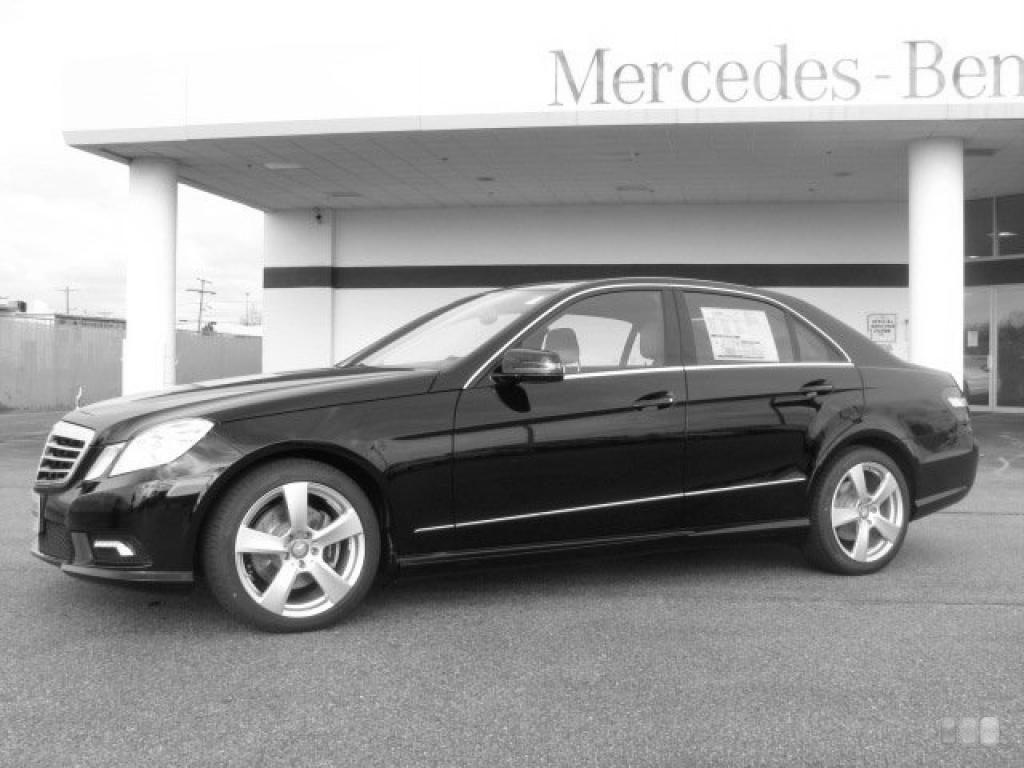car: (20, 272, 982, 633)
